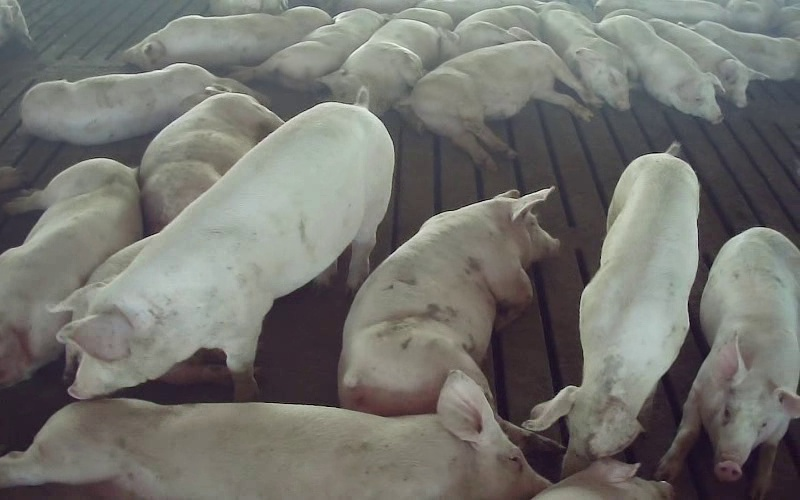pig: (60, 87, 393, 399), (0, 371, 548, 499), (524, 144, 698, 476), (338, 188, 558, 415), (656, 227, 799, 499), (0, 159, 141, 386), (407, 42, 600, 169), (139, 93, 282, 234), (21, 63, 265, 144), (320, 8, 452, 115), (596, 15, 722, 123), (123, 6, 331, 69), (233, 8, 385, 90), (649, 18, 767, 107), (539, 9, 636, 110), (693, 21, 799, 80), (440, 6, 539, 61)
